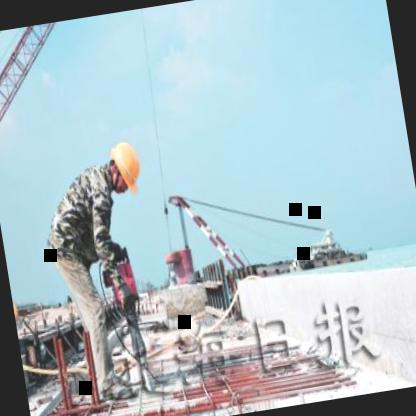helmet: (102, 133, 148, 200)
